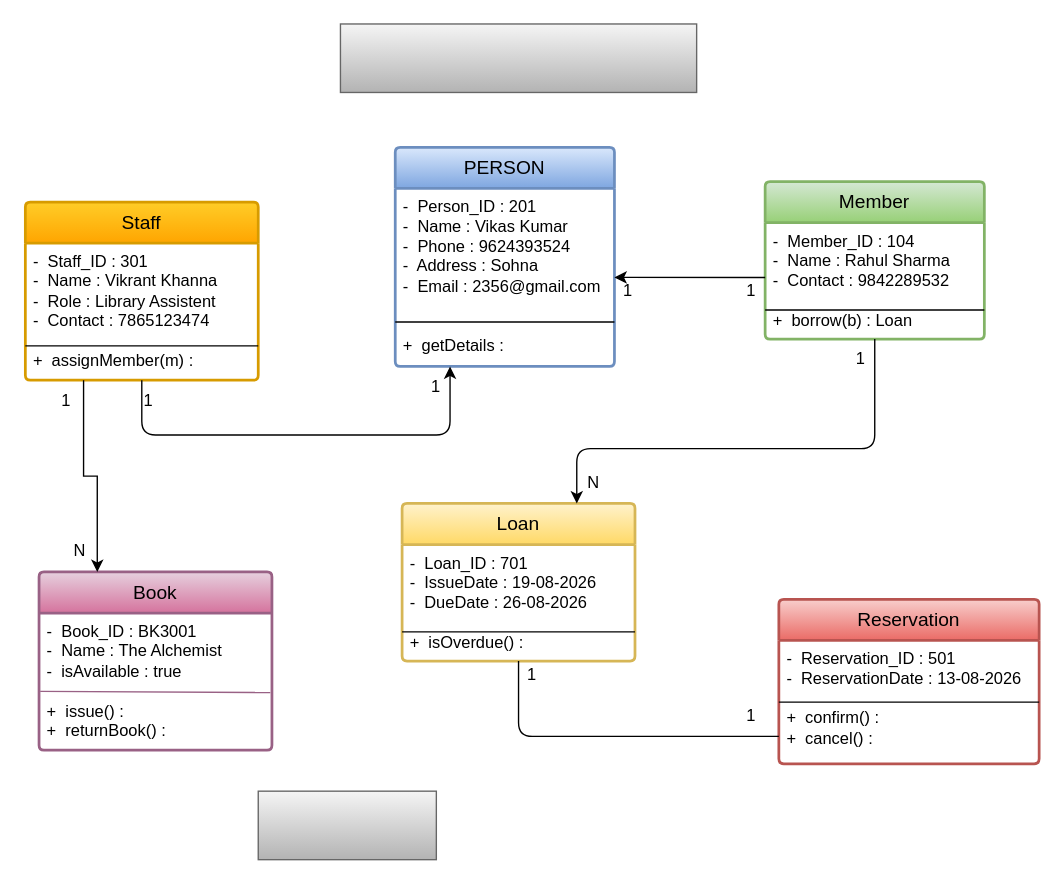
This 1064x884 diagram has some shape labels left out. The shapes that lost their labels are listed below. From the top down, each one's box as (x1, y1, x2, y2) in pixels, then its label:
(339, 23, 697, 92): Library Management Database OODM
(257, 790, 436, 860): CARDINALITY 1:1 :- one to one 1:N :- one to many
